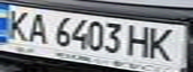0: (84, 19, 106, 53)
3: (103, 20, 127, 55)
4: (69, 17, 90, 51)
6: (48, 15, 72, 48)
A: (21, 11, 51, 45)
H: (124, 22, 154, 60)
K: (145, 25, 184, 62), (0, 7, 33, 42)
